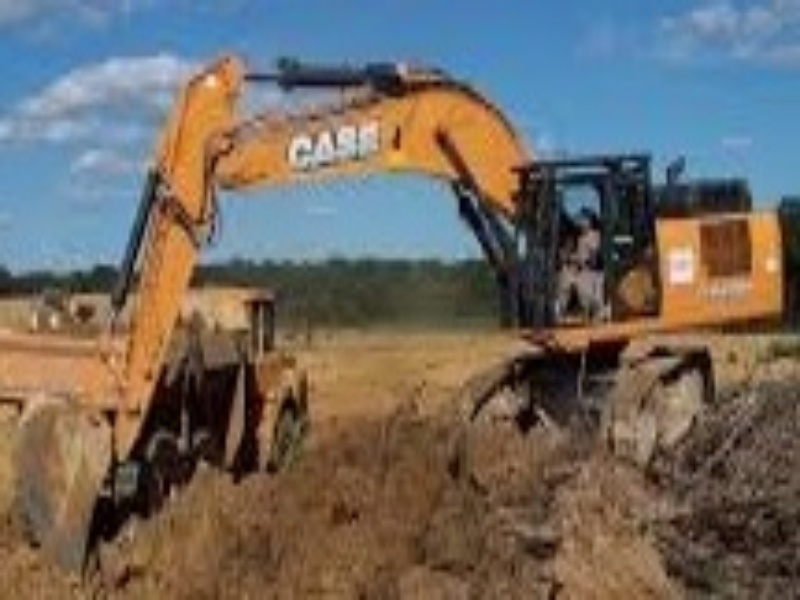wajueji: (381, 70, 800, 497)
